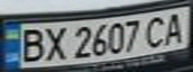0: (106, 20, 127, 55)
2: (69, 22, 93, 60)
6: (90, 21, 112, 57)
7: (121, 17, 145, 52)
A: (160, 10, 190, 45)
B: (15, 25, 48, 64)
C: (142, 14, 172, 47)
X: (39, 25, 69, 62)
